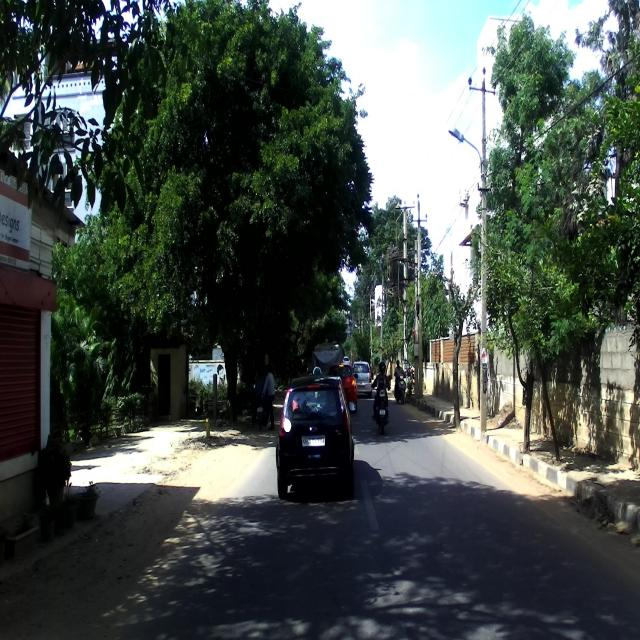Car_Ford: (276, 371, 357, 495)
motorcycle_bajaj: (370, 372, 393, 438)
scooter: (394, 371, 406, 405)
